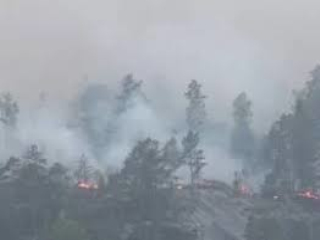fire: (73, 176, 105, 195)
smoke: (118, 85, 280, 205)
